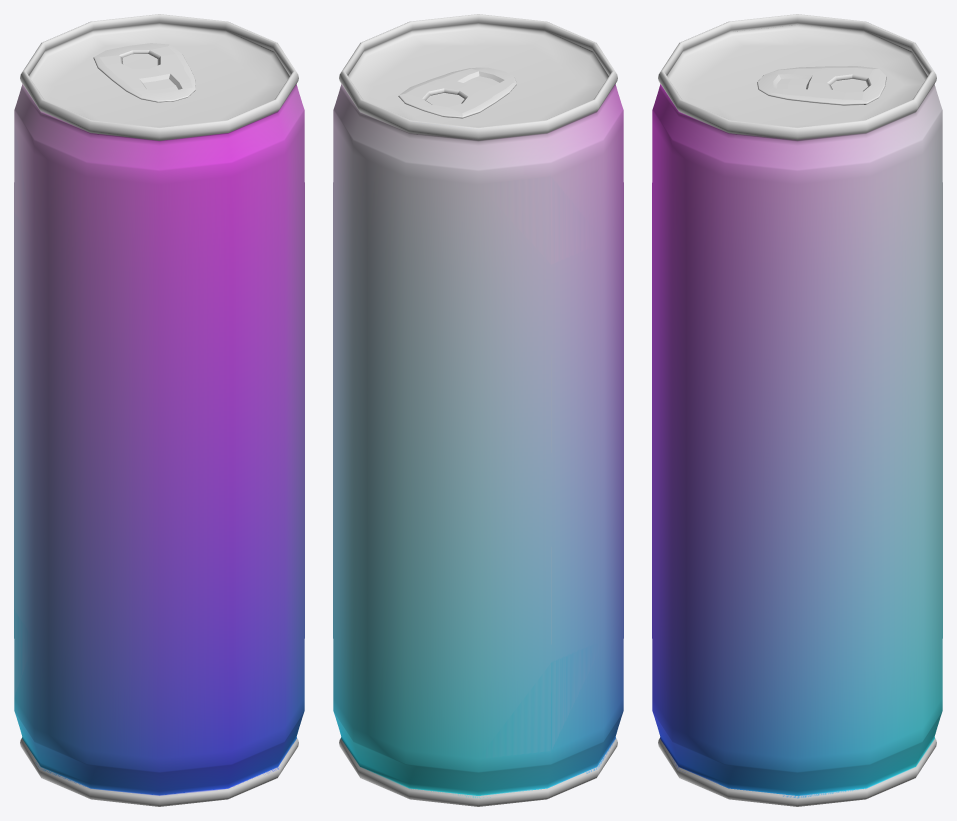
Rendered from EnergyDrink4.fbx.
The picture shows the model from 3 angles, left to right: view 1: azimuth 30°, elevation 25°; view 2: azimuth 150°, elevation 25°; view 3: azimuth 270°, elevation 25°; orthographic projection.
Visible parts, largest first — view 1: EnergyDrink.001, Cube.015; view 2: EnergyDrink.001, Cube.015; view 3: EnergyDrink.001, Cube.015.
Boxes of the visible parts, x1=… form: EnergyDrink.001: x1=14, y1=14, x2=304, y2=806; Cube.015: x1=93, y1=43, x2=195, y2=102; EnergyDrink.001: x1=333, y1=14, x2=623, y2=806; Cube.015: x1=398, y1=67, x2=516, y2=118; EnergyDrink.001: x1=652, y1=14, x2=942, y2=806; Cube.015: x1=757, y1=66, x2=886, y2=105.
Bounding box in the file's own units: 7.13 × 18.46 × 7.16.
